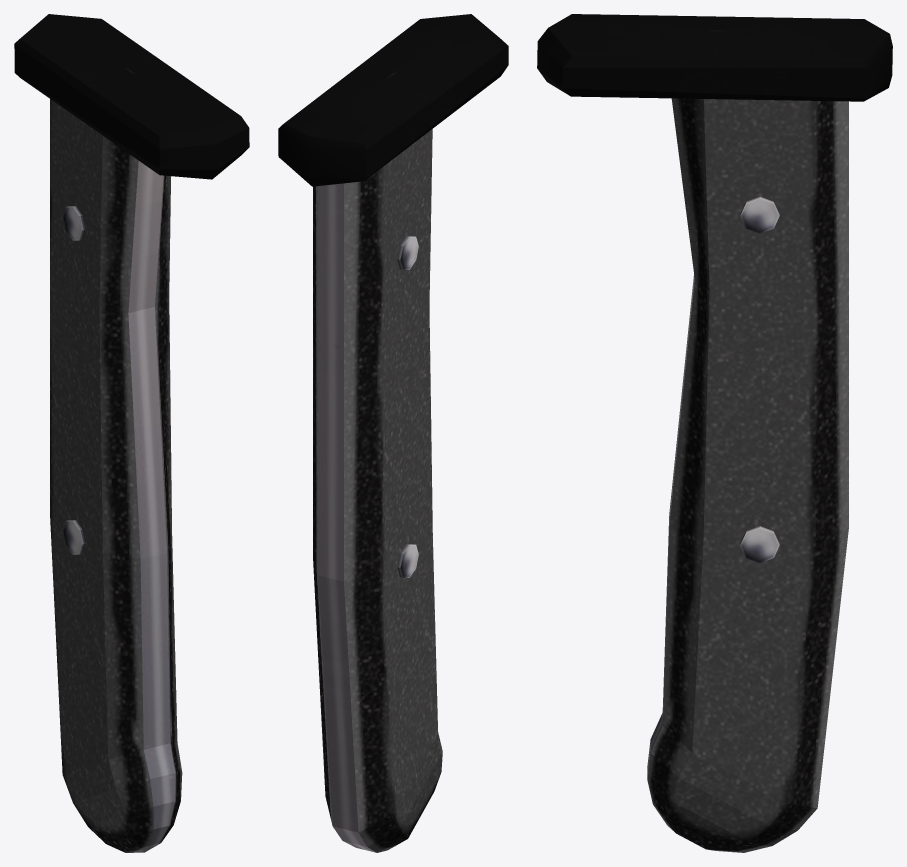
File: Machete_Handle.fbx
3 views of the same model, side by side, from view 1: azimuth 30°, elevation 25°; view 2: azimuth 150°, elevation 25°; view 3: azimuth 270°, elevation 25° (orthographic). The views are drawn at different scales.
Visible parts, largest first — view 1: polySurface6; view 2: polySurface6; view 3: polySurface6.
Boxes of the visible parts, left/top/right/bottom form: polySurface6: left=14, top=14, right=249, bottom=852; polySurface6: left=278, top=14, right=508, bottom=852; polySurface6: left=537, top=14, right=892, bottom=852.
Size of the model in its own units: 0.0962 by 0.8015 by 0.3147.
